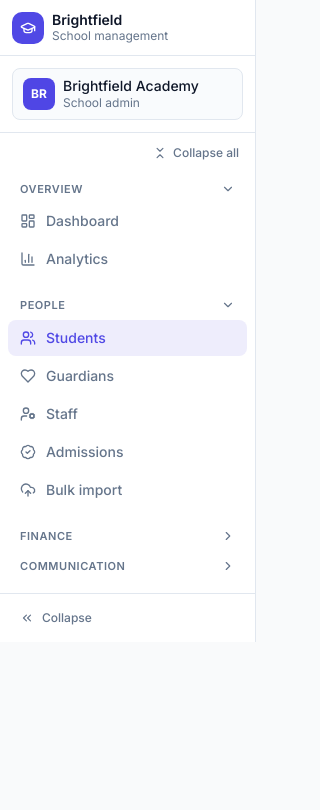
it: Sidebar sections › opens a closed section when its heading is clicked, and closes it again
The image size is (320, 810).
Click the button "Finance": (128, 537) left=8, top=524, right=247, bottom=550
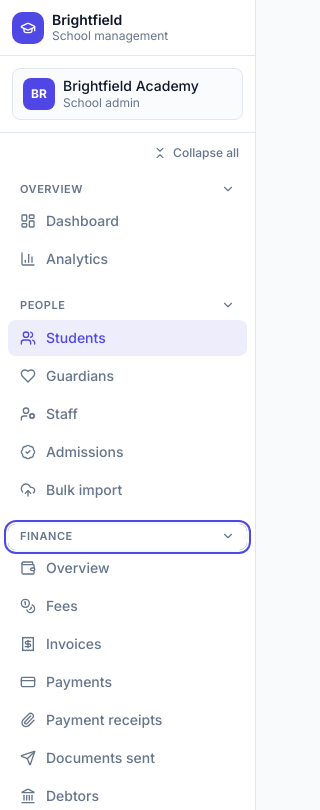
Result: the link "Invoices" is shown at left=20, top=635, right=102, bottom=652
Result: the button "Finance" is expanded
Click the button "Finance": (128, 537) left=8, top=524, right=247, bottom=550
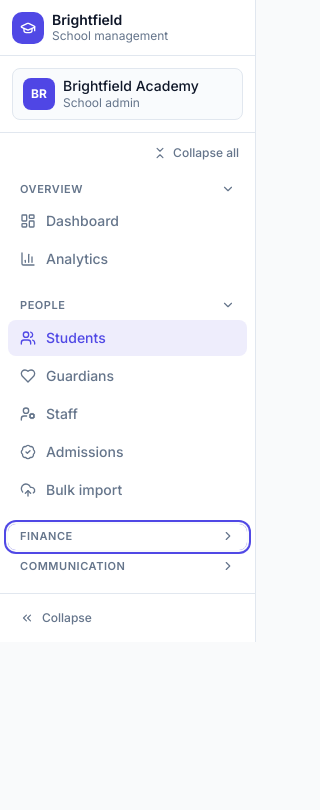
Result: the link "Invoices" is gone
